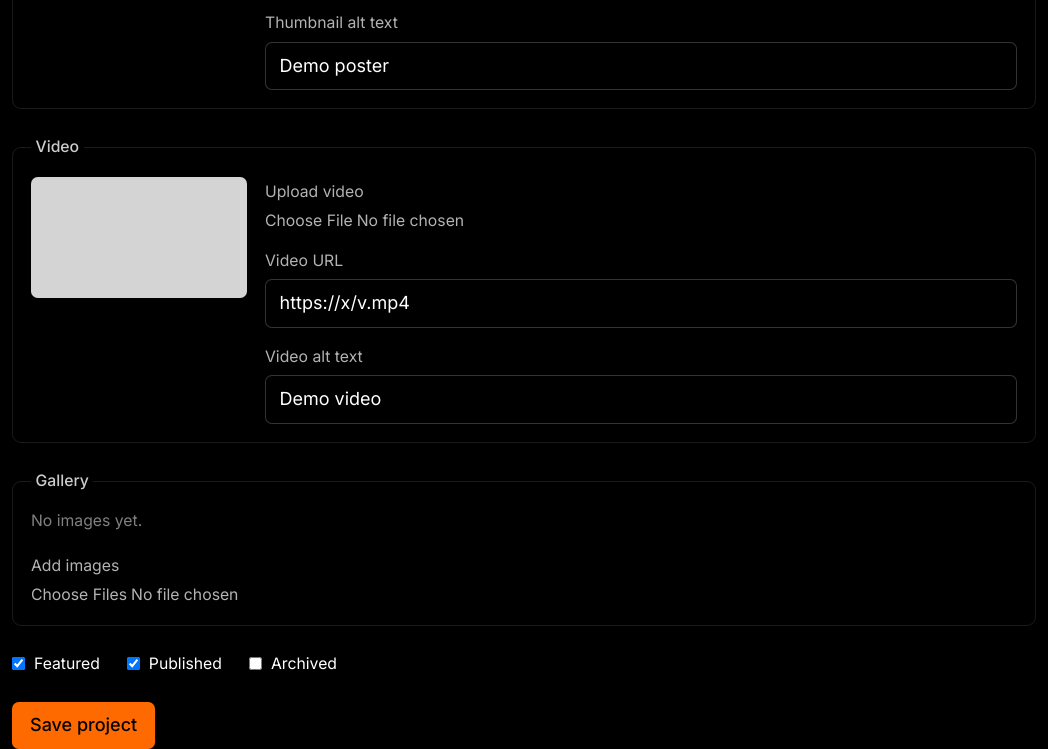
Test: ProjectForm › shows a slug error returned from the action next to the slug field
The width and height of the screenshot is (1048, 749).
(page scrolled)
Click the button "Save project": (84, 726) top-left (12, 702), bottom-right (155, 748)
(page scrolled)
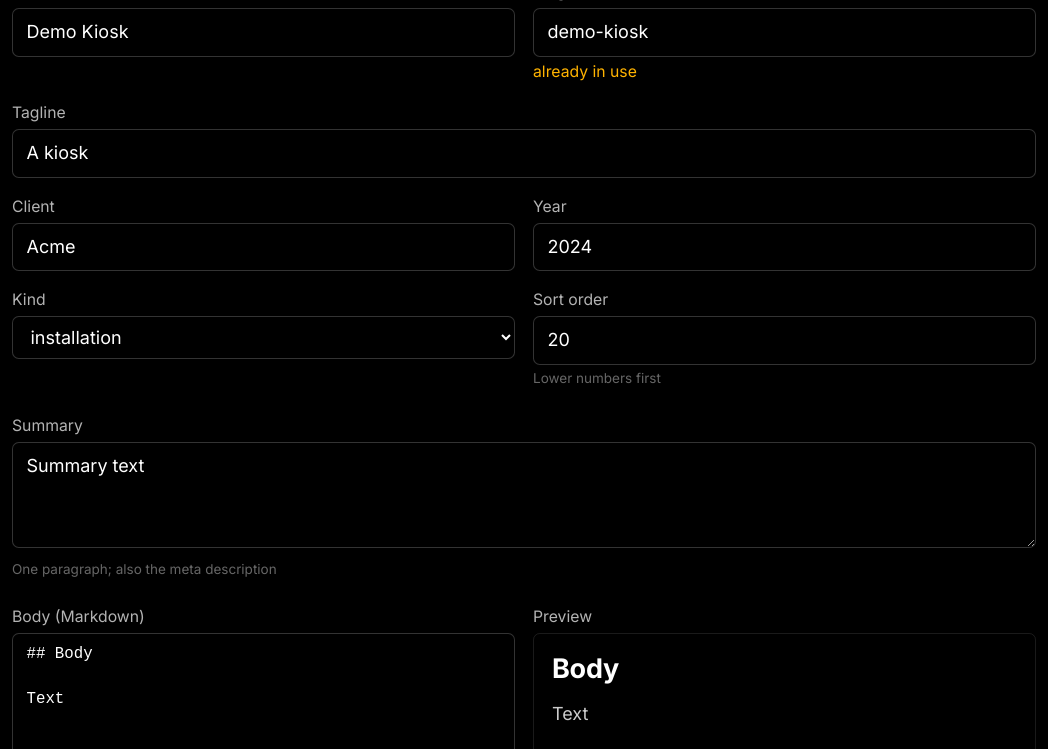
Expected: the text "already in use" is shown, top-left (533, 62), bottom-right (637, 81)
